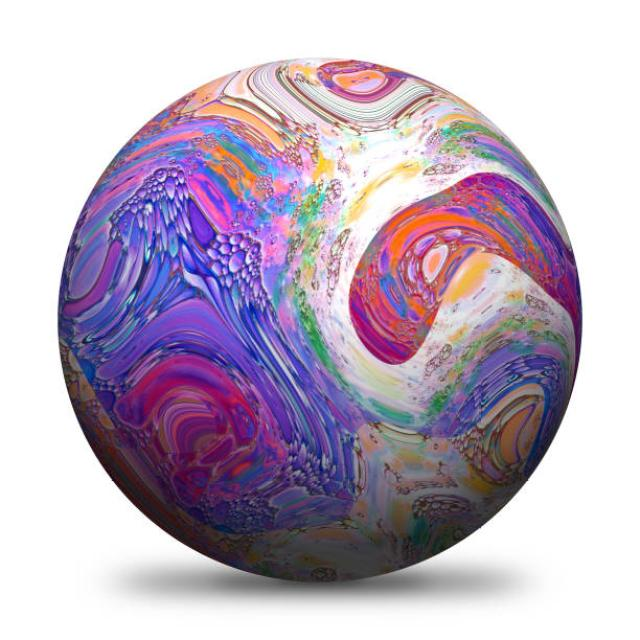Metamorphic: (51, 57, 591, 592)
